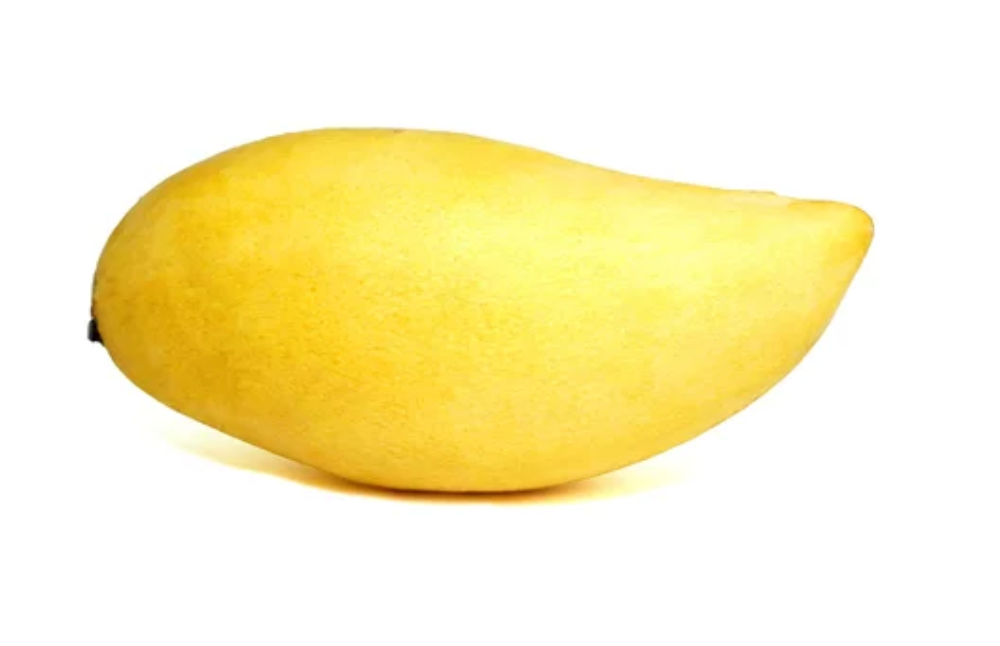mango: (83, 120, 873, 494)
